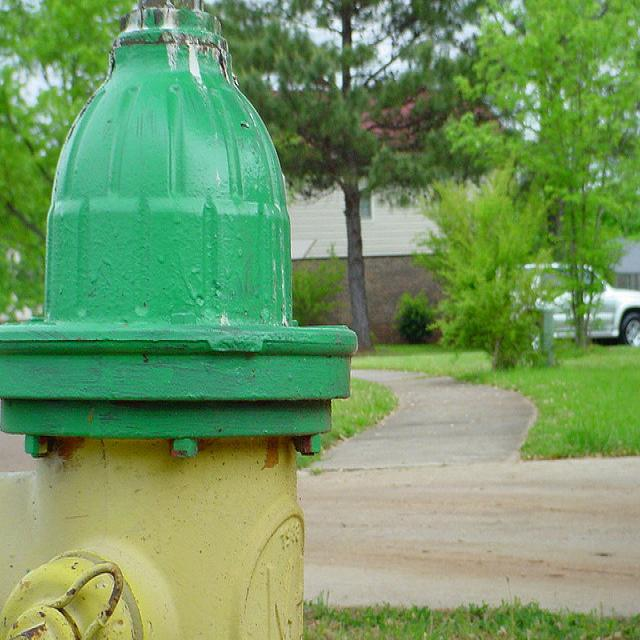fire_hydrant: (1, 2, 362, 630)
